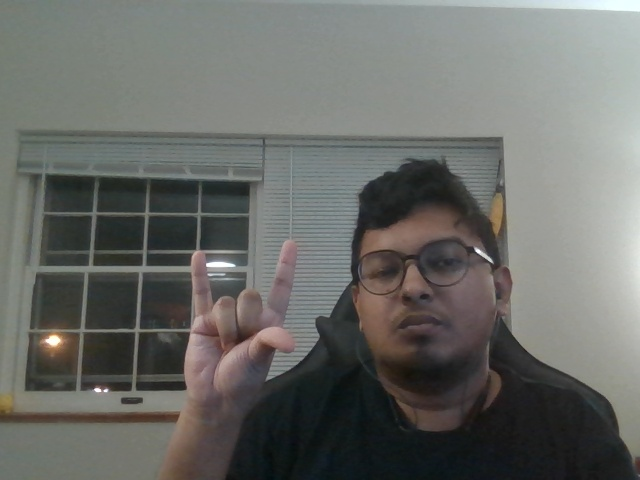ilikeyou: (161, 230, 311, 410)
